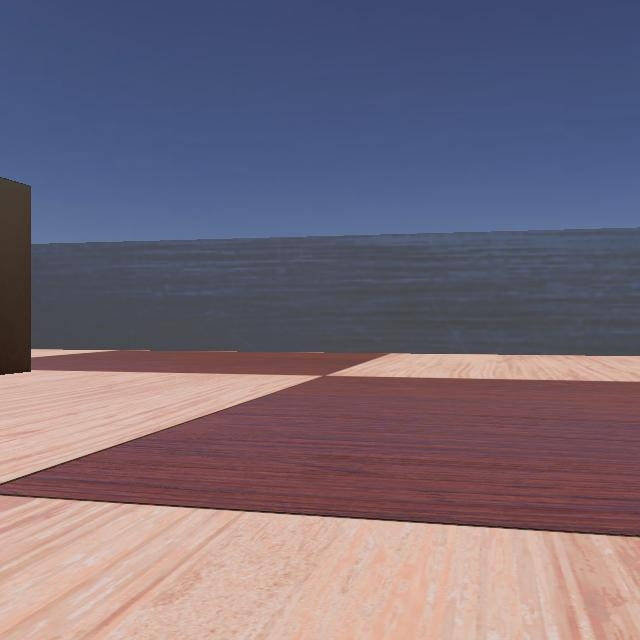cardboard-box: (0, 121, 30, 395)
